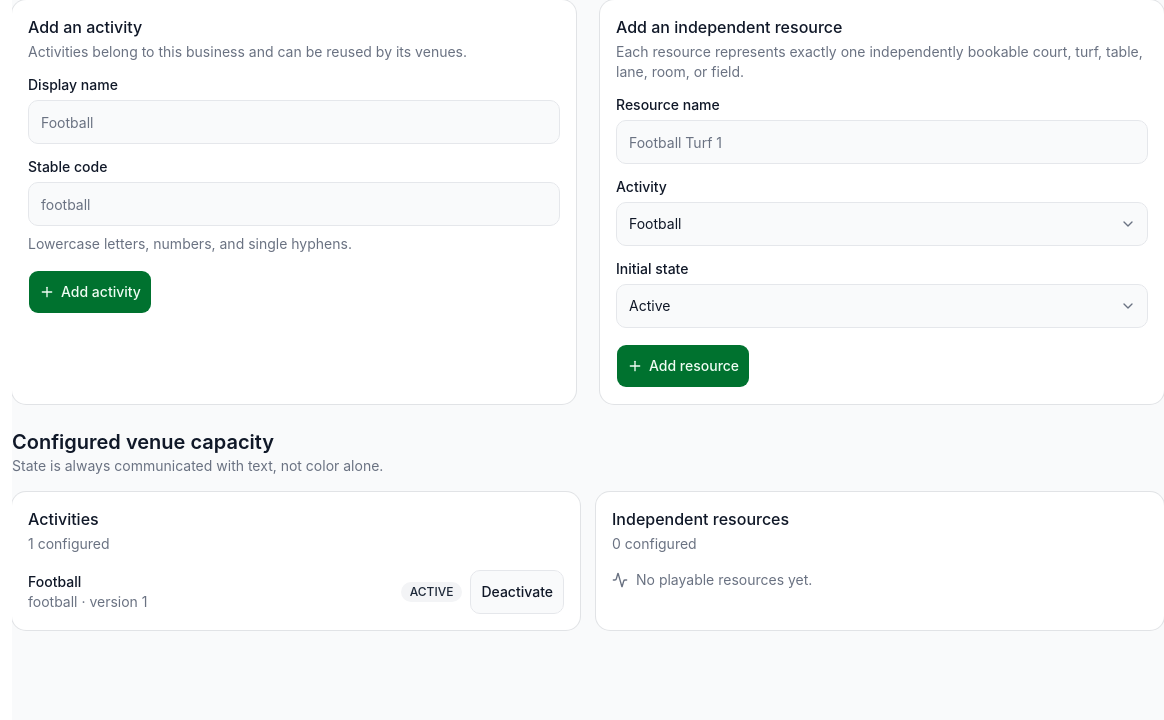
Scenario: ResourceSetup › offers a reload recovery when an optimistic edit is stale
This screenshot has width=1164, height=720.
Click the button "Deactivate" at (517,592), box [470,570,564,614]
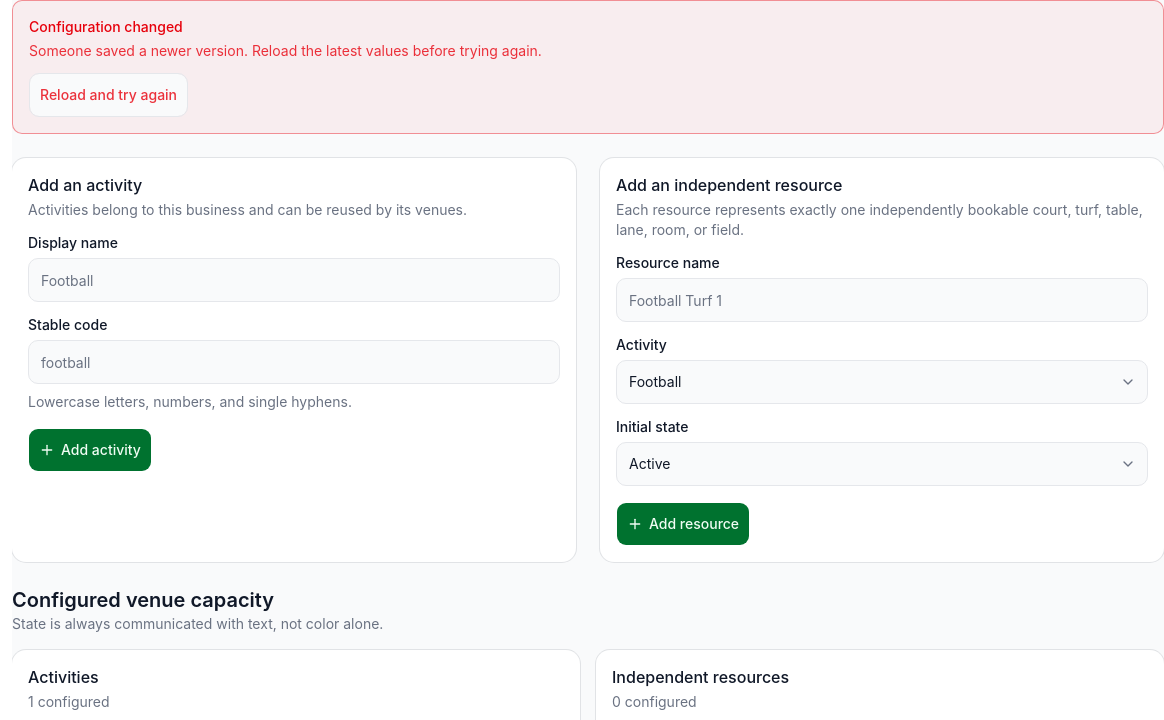
Check: the heading "Configuration changed" is shown, box [29,18,183,35]
Check: the button "Reload and try again" is shown, box [29,73,188,117]
